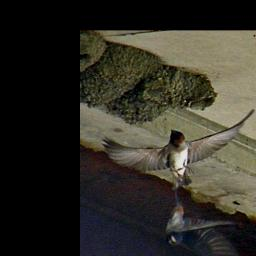Swallow: (99, 107, 256, 193)
